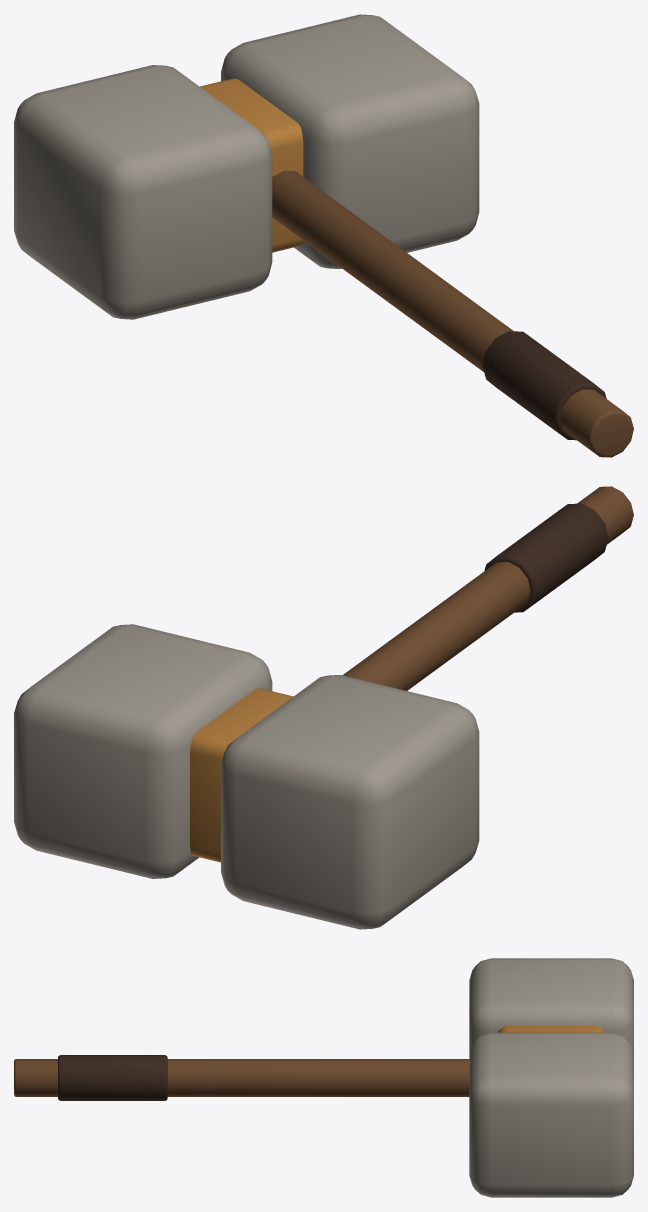
The model's file is hammer.glb.
3 views of the same model, one above another, from view 1: azimuth 30°, elevation 25°; view 2: azimuth 150°, elevation 25°; view 3: azimuth 270°, elevation 25° (orthographic). The views are drawn at different scales.
Visible parts, largest first — view 1: HeadA, HeadB, Haft, Wrap, Core; view 2: HeadA, HeadB, Haft, Core, Wrap; view 3: HeadB, Haft, HeadA, Wrap, Core.
Boxes of the visible parts, x1,y1,x2,y2 form: HeadA: (14, 65, 272, 319); HeadB: (221, 14, 479, 268); Haft: (272, 170, 633, 457); Wrap: (482, 331, 606, 440); Core: (200, 78, 303, 252); HeadA: (221, 675, 479, 929); HeadB: (14, 624, 272, 878); Haft: (343, 486, 633, 690); Core: (190, 688, 293, 862); Wrap: (484, 503, 608, 612); HeadB: (469, 1032, 633, 1197); Haft: (14, 1059, 469, 1096); HeadA: (469, 958, 633, 1053); Wrap: (58, 1055, 167, 1100); Core: (498, 1025, 605, 1032).
Bounding box in the file's own units: 0.58 × 0.24 × 1.13.
